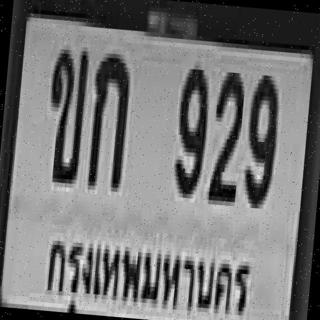A01: (85, 46, 131, 185)
A02: (42, 42, 88, 178)
N02: (207, 65, 245, 200)
N09: (241, 68, 281, 203), (171, 60, 211, 195)
P04: (40, 222, 264, 320)
